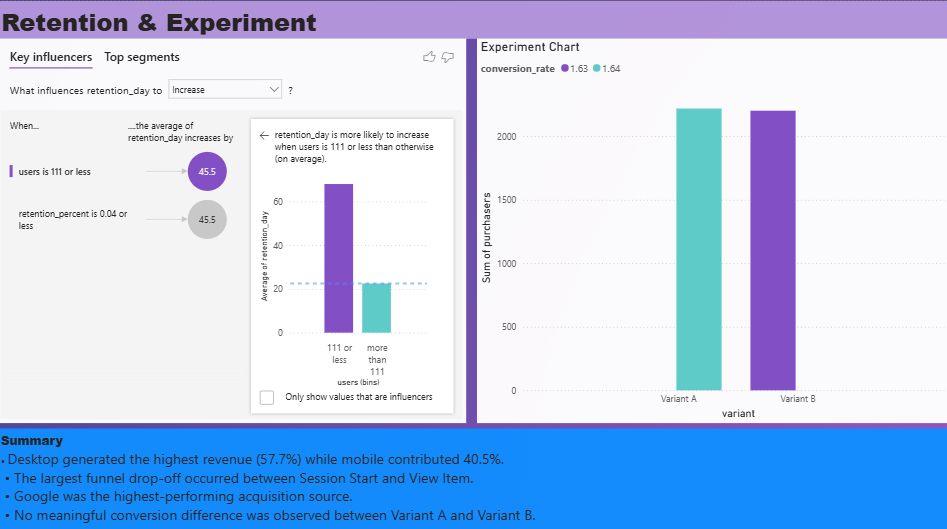

The page's visual inventory and layout, read from the dashboard file:
{"tool":"powerbi","page":{"name":"Page 3","canvas":[1280,720],"ordinal":2},"visuals":[{"type":"textbox","box":[0,0,1280,50],"z":0},{"type":"keyDriversVisual","fields":{"Target":["Retention Percentage.retention_day"],"ExplainBy":["Retention Percentage.users","Retention Percentage.retention_percent"]},"box":[0,50,625.7,512.9],"z":1000},{"type":"lineClusteredColumnComboChart","title":"Experiment Chart","fields":{"Category":["simulated AB Test.variant"],"Series":["simulated AB Test.conversion_rate"],"Y":["Sum(simulated AB Test.purchasers)"]},"box":[640,50,640,512.9],"z":2000},{"type":"textbox","box":[0,570,1280,150],"z":3000}]}

Visuals, with their boxes in screenshot pixels (x1, y1, x2, y2), scaled from the page's 1280x720 canvas onto the 947x529 screenshot:
textbox: 0,0,946,37
keyDriversVisual - Retention Percentage.retention_day x Retention Percentage.users: 0,37,463,414
"Experiment Chart" lineClusteredColumnComboChart: 474,37,946,414
textbox: 0,419,946,528
